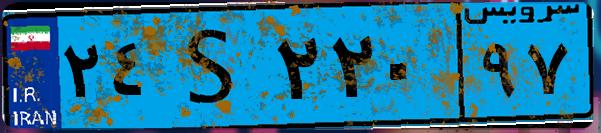0: (385, 28, 445, 110)
2: (270, 28, 330, 110), (330, 28, 385, 110), (57, 26, 110, 100)
4: (110, 28, 158, 98)
7: (525, 38, 570, 115)
9: (475, 38, 525, 113)
S: (158, 12, 270, 120)
